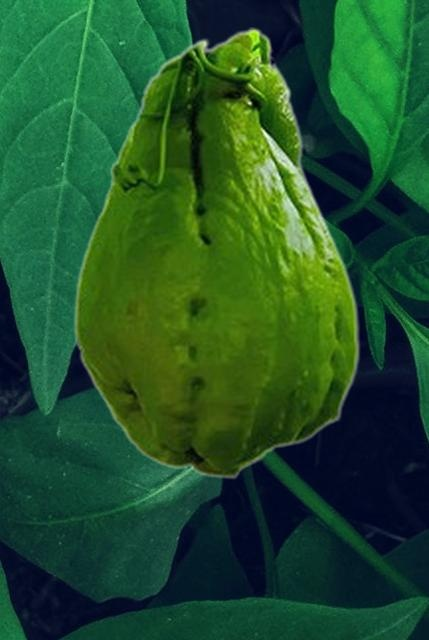sayote: (73, 27, 360, 479)
